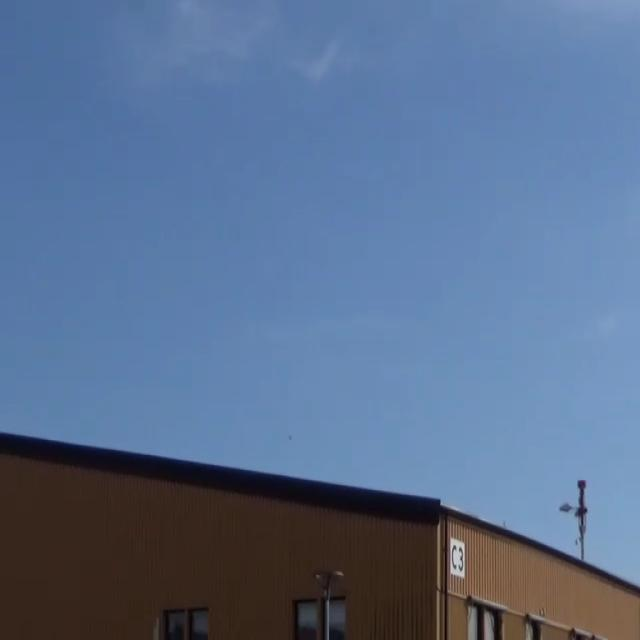Helicopter: (274, 418, 304, 458)
